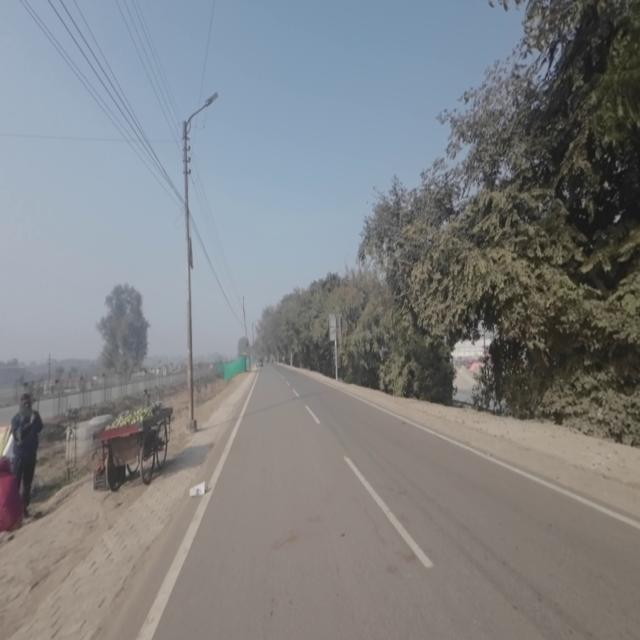Garbage: (188, 479, 207, 503)
